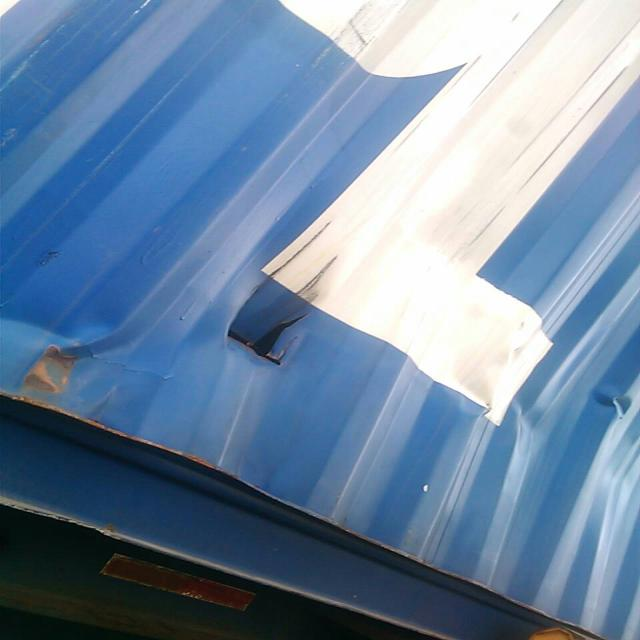hole: (218, 279, 311, 370)
